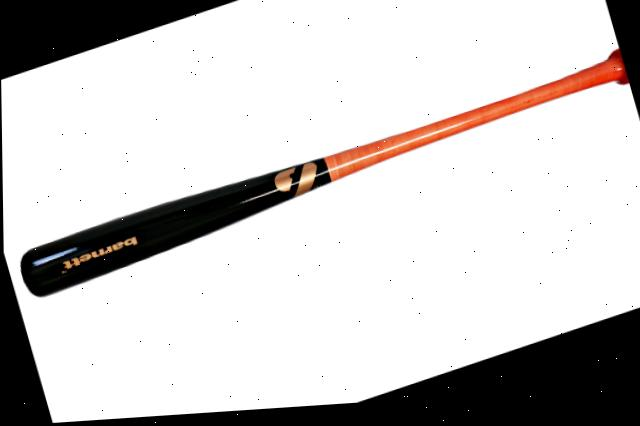baseball bat: (1, 30, 640, 327)
